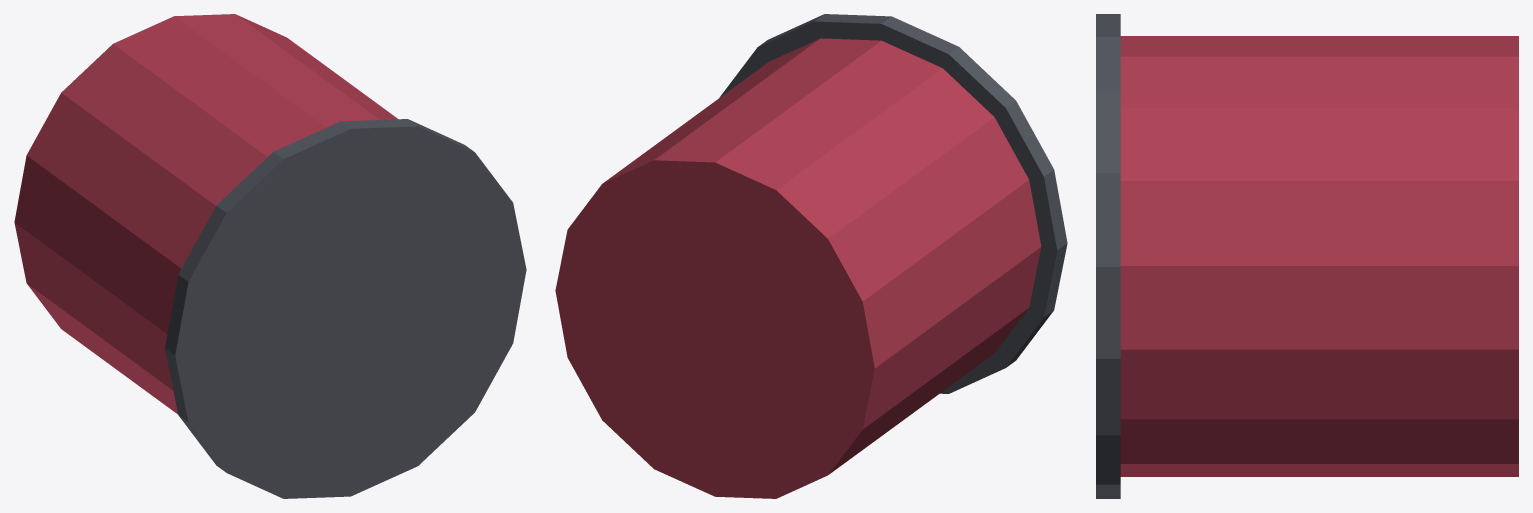
The model's file is dumpster_v01.glb.
The picture shows the model from 3 angles, left to right: view 1: azimuth 30°, elevation 25°; view 2: azimuth 150°, elevation 25°; view 3: azimuth 270°, elevation 25°; orthographic projection. The views are drawn at different scales.
Visible parts, largest first — view 1: cylinder_1, cylinder_0; view 2: cylinder_0, cylinder_1; view 3: cylinder_0, cylinder_1.
Boxes of the visible parts, <box> form: cylinder_1: <box>165,119,526,498</box>; cylinder_0: <box>14,14,398,414</box>; cylinder_0: <box>555,38,1041,498</box>; cylinder_1: <box>719,14,1067,393</box>; cylinder_0: <box>1120,36,1518,476</box>; cylinder_1: <box>1096,14,1120,498</box>.
Size of the model in its own units: 1.58 by 1.58 by 1.38.
